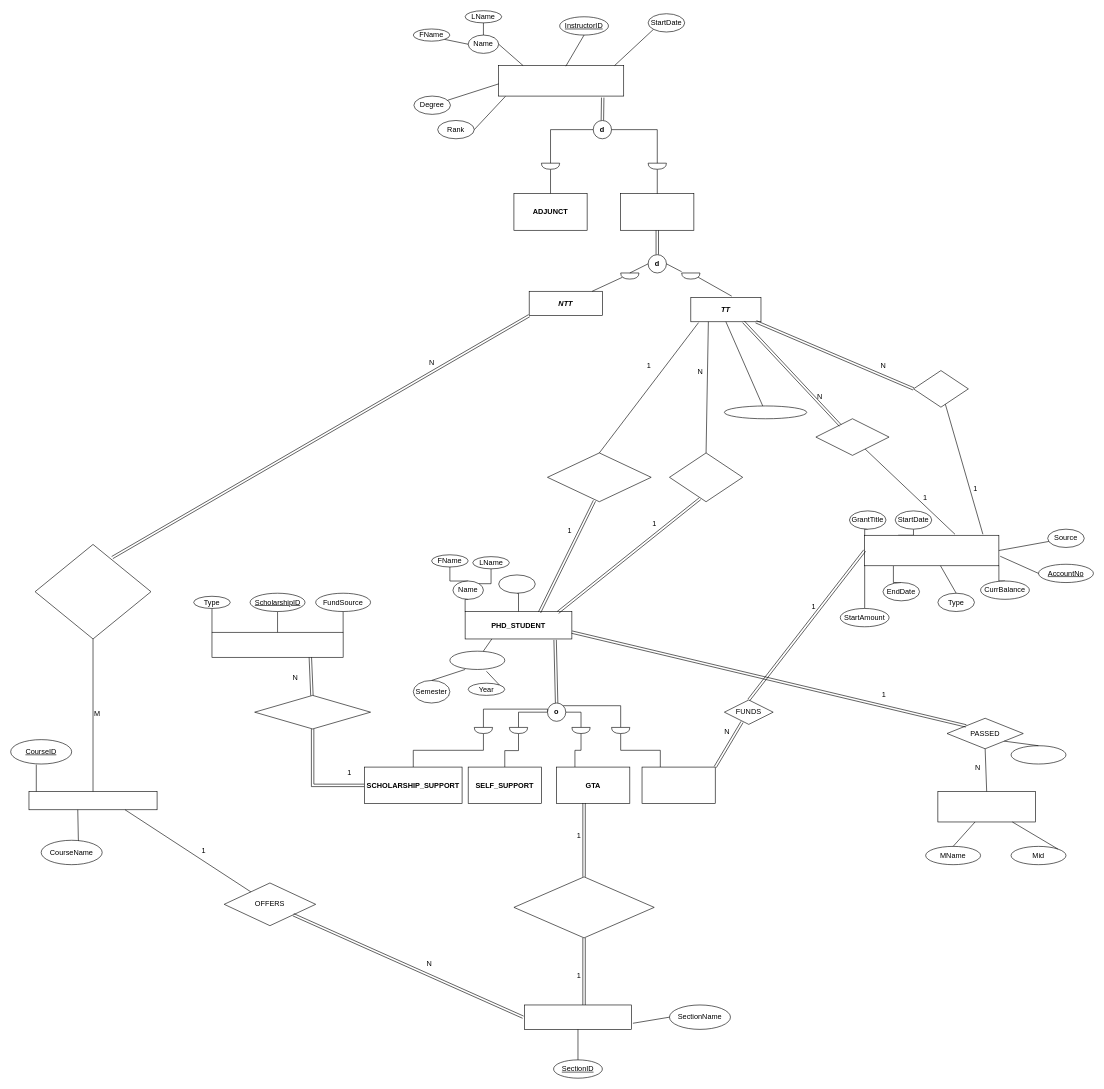
This 1104x1089 diagram has some shape labels left out. The centre of each missing label's shape, as x and y in pixels:
"ASSIGNED" belongs at (x=583, y=907).
"ASSIGNEDTO" belongs at (x=312, y=712).
"CO-PI" belongs at (x=852, y=436).
"COMMITTEE" belongs at (x=706, y=477).
"COURSE" belongs at (x=92, y=800).
"Date" belongs at (x=1038, y=754).
"FULL_TIME" belongs at (x=657, y=211).
"GRA" belongs at (x=678, y=785).
"GRANT" belongs at (x=931, y=550).
"INSTRUCTOR" belongs at (x=561, y=80).
"MILESTONE" belongs at (x=986, y=806).
"NoOfPHDSupervised" belongs at (x=765, y=412).
"PI" belongs at (x=940, y=388).
"SCHOLARSHIP" belongs at (x=277, y=644).
"SECTION" belongs at (x=577, y=1016).
"StartSemester" belongs at (x=477, y=660).
"StudentID" belongs at (x=516, y=583).
"SUPERVISOR" belongs at (x=599, y=477).
"TAUGHT" belongs at (x=92, y=591).
